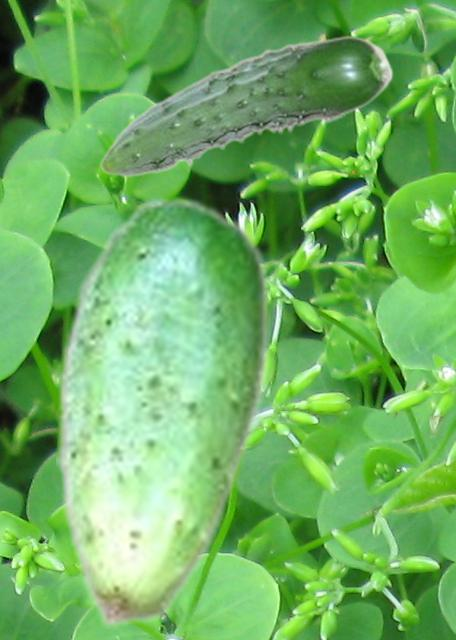cucumber: (56, 195, 269, 628), (99, 35, 393, 176)
